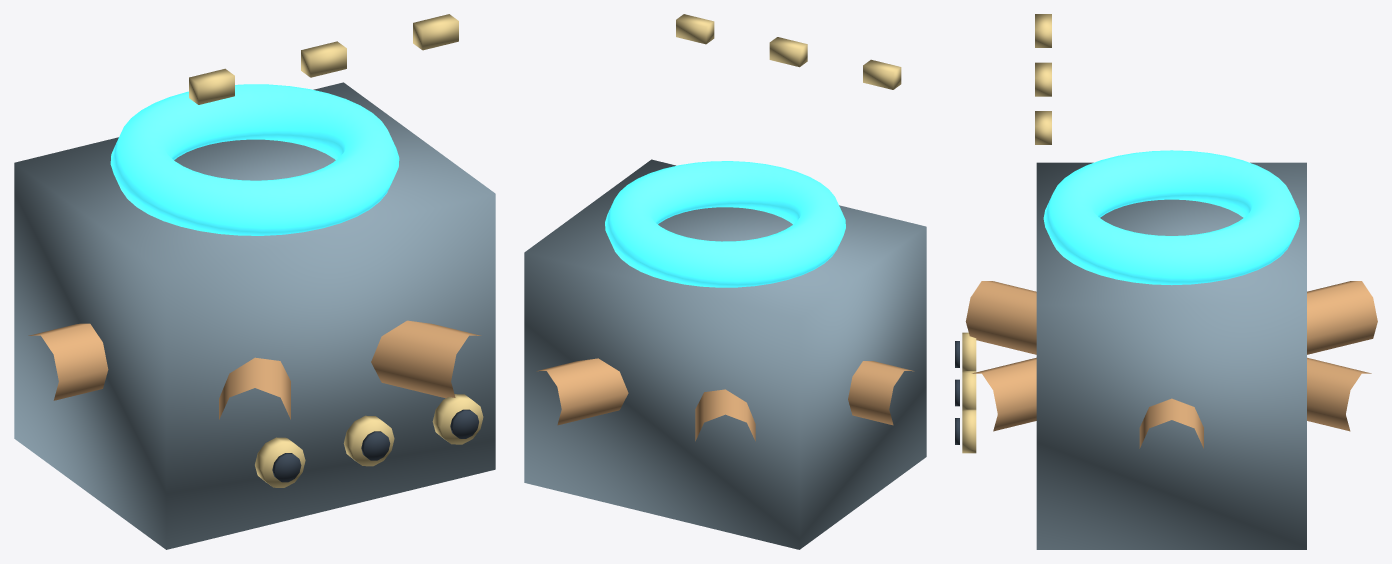
Rendered from 59_L93_AnalyticalVacuumPressureTransducer.glb.
The picture shows the model from 3 angles, left to right: view 1: azimuth 30°, elevation 25°; view 2: azimuth 150°, elevation 25°; view 3: azimuth 270°, elevation 25°; orthographic projection. The views are drawn at different scales.
Visible parts, largest first — view 1: L92_AnalyticalVacuumPressureT_Part_0000, L92_AnalyticalVacuumPressureT_Part_0002, L92_AnalyticalVacuumPressureT_Part_0001, L92_AnalyticalVacuumPressureT_Part_0003, L92_AnalyticalVacuumPressureT_Part_0006, L92_AnalyticalVacuumPressureT_Part_0004, L92_AnalyticalVacuumPressureT_Part_0008, L92_AnalyticalVacuumPressureT_Part_0009, L92_AnalyticalVacuumPressureT_Part_0007, L92_AnalyticalVacuumPressureT_Part_0005; view 2: L92_AnalyticalVacuumPressureT_Part_0000, L92_AnalyticalVacuumPressureT_Part_0002, L92_AnalyticalVacuumPressureT_Part_0001, L92_AnalyticalVacuumPressureT_Part_0003; view 3: L92_AnalyticalVacuumPressureT_Part_0000, L92_AnalyticalVacuumPressureT_Part_0002, L92_AnalyticalVacuumPressureT_Part_0001, L92_AnalyticalVacuumPressureT_Part_0003, L92_AnalyticalVacuumPressureT_Part_0008, L92_AnalyticalVacuumPressureT_Part_0006, L92_AnalyticalVacuumPressureT_Part_0004.
Boxes of the visible parts, x1,y1,x2,y2 form: L92_AnalyticalVacuumPressureT_Part_0000: [14, 82, 495, 549]; L92_AnalyticalVacuumPressureT_Part_0002: [110, 84, 399, 235]; L92_AnalyticalVacuumPressureT_Part_0001: [28, 320, 481, 419]; L92_AnalyticalVacuumPressureT_Part_0003: [189, 14, 458, 104]; L92_AnalyticalVacuumPressureT_Part_0006: [343, 415, 394, 466]; L92_AnalyticalVacuumPressureT_Part_0004: [255, 437, 305, 487]; L92_AnalyticalVacuumPressureT_Part_0008: [432, 394, 483, 444]; L92_AnalyticalVacuumPressureT_Part_0009: [450, 409, 478, 438]; L92_AnalyticalVacuumPressureT_Part_0007: [361, 431, 390, 460]; L92_AnalyticalVacuumPressureT_Part_0005: [272, 453, 301, 482]; L92_AnalyticalVacuumPressureT_Part_0000: [524, 159, 926, 549]; L92_AnalyticalVacuumPressureT_Part_0002: [605, 161, 845, 287]; L92_AnalyticalVacuumPressureT_Part_0001: [536, 358, 914, 441]; L92_AnalyticalVacuumPressureT_Part_0003: [676, 14, 901, 89]; L92_AnalyticalVacuumPressureT_Part_0000: [1036, 162, 1306, 549]; L92_AnalyticalVacuumPressureT_Part_0002: [1043, 150, 1299, 285]; L92_AnalyticalVacuumPressureT_Part_0001: [965, 281, 1377, 448]; L92_AnalyticalVacuumPressureT_Part_0003: [1035, 14, 1051, 144]; L92_AnalyticalVacuumPressureT_Part_0008: [962, 409, 976, 453]; L92_AnalyticalVacuumPressureT_Part_0006: [962, 371, 976, 409]; L92_AnalyticalVacuumPressureT_Part_0004: [962, 332, 976, 370].
Bounding box in the file's own units: 1.3 × 1.33 × 1.25.
